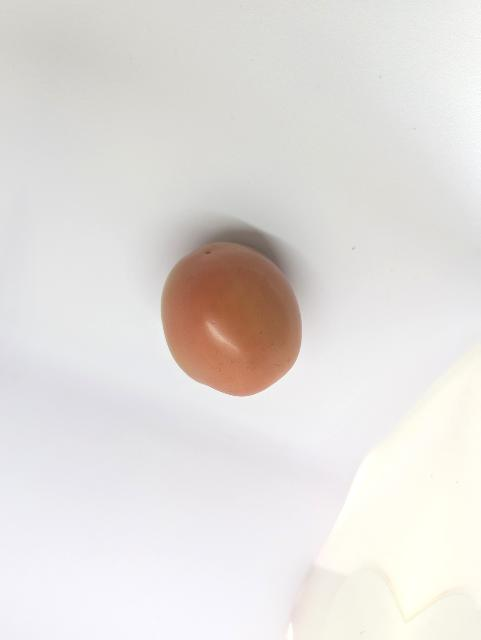red: (147, 230, 328, 409)
